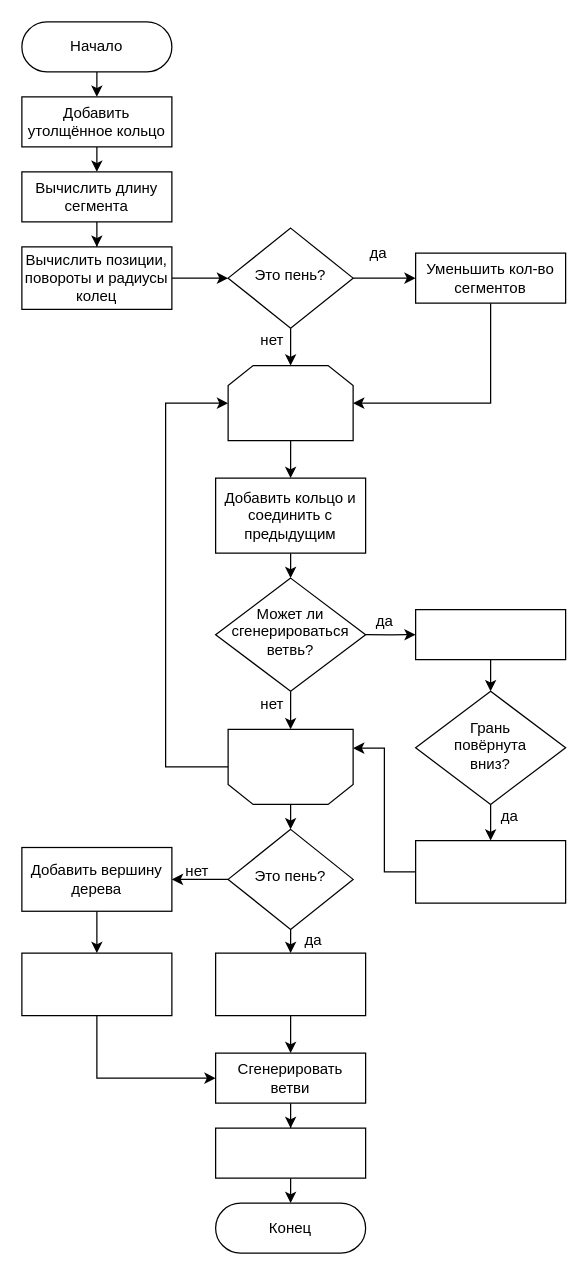
Some shapes in this 588 by 1275 pixel diagram are drawn without their labels. The shapes that lost their labels are listed below. From the top down, each one's centre as x and y in pixels, then its label:
At (x=290, y=402): "Цикл i от 0 до N segments".
At (x=490, y=634): "Выбрать случайную грань".
At (x=290, y=766): "Увеличить i на 1 Цикл i".
At (x=490, y=871): "Добавить генератор ветви".
At (x=96, y=984): "Добавить листву".
At (x=290, y=984): "Добавить вершину пня".
At (x=290, y=1152): "Сохранить данные в Mesh".
